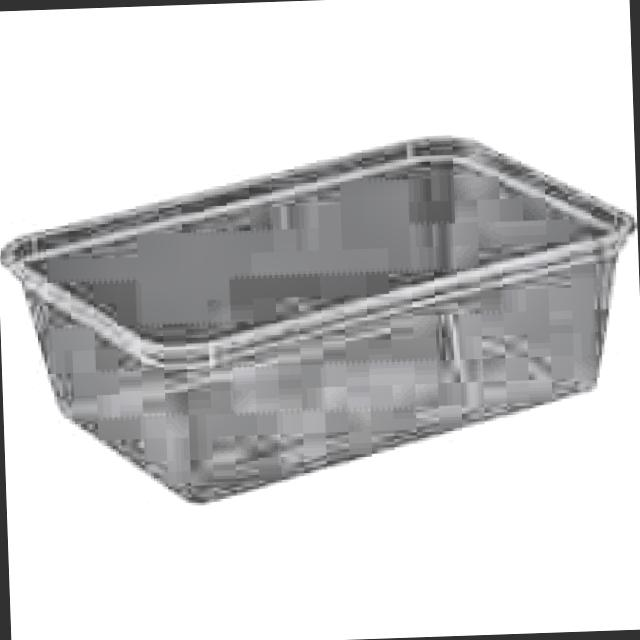plastic container: (0, 138, 633, 500)
